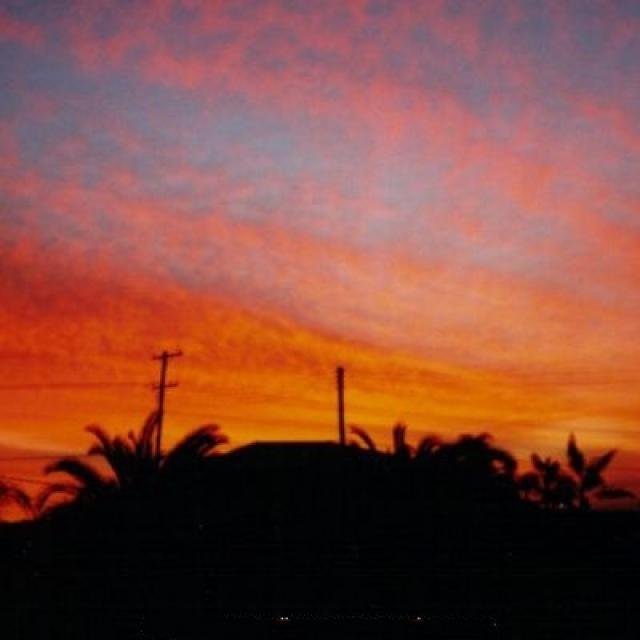As: (5, 90, 640, 389)
